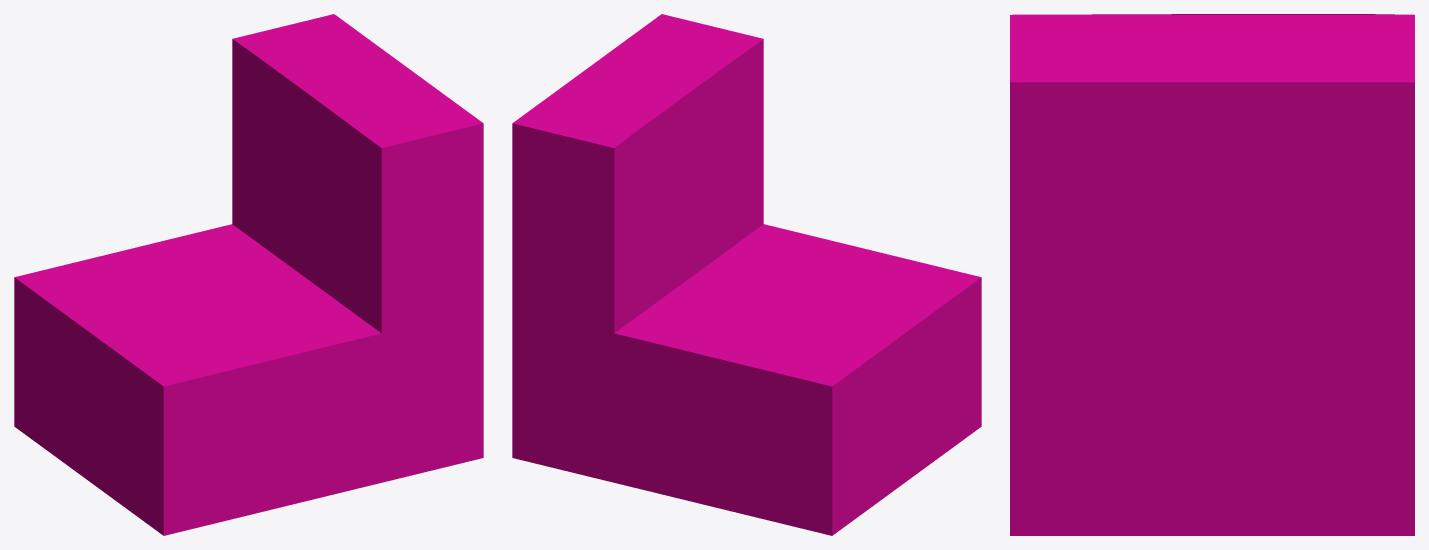
The model's file is sillonrosa1.fbx.
3 views of the same model, side by side, from view 1: azimuth 30°, elevation 25°; view 2: azimuth 150°, elevation 25°; view 3: azimuth 270°, elevation 25° (orthographic). The views are drawn at different scales.
Visible parts, largest first — view 1: Cube.011; view 2: Cube.011; view 3: Cube.011.
Boxes of the visible parts, bbox=[...] form: Cube.011: bbox=[14, 14, 483, 535]; Cube.011: bbox=[512, 14, 981, 535]; Cube.011: bbox=[1010, 14, 1414, 535].
Bounding box in the file's own units: 723 × 724 × 585.
